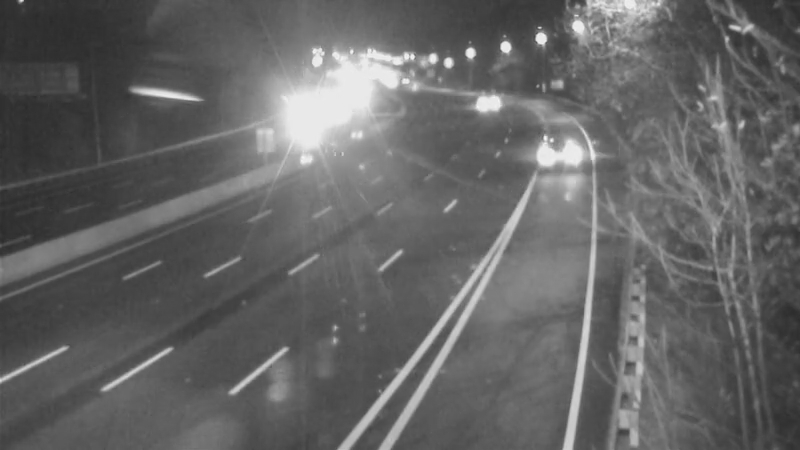vehicle: (457, 77, 507, 127), (526, 125, 576, 175), (278, 92, 328, 142)
